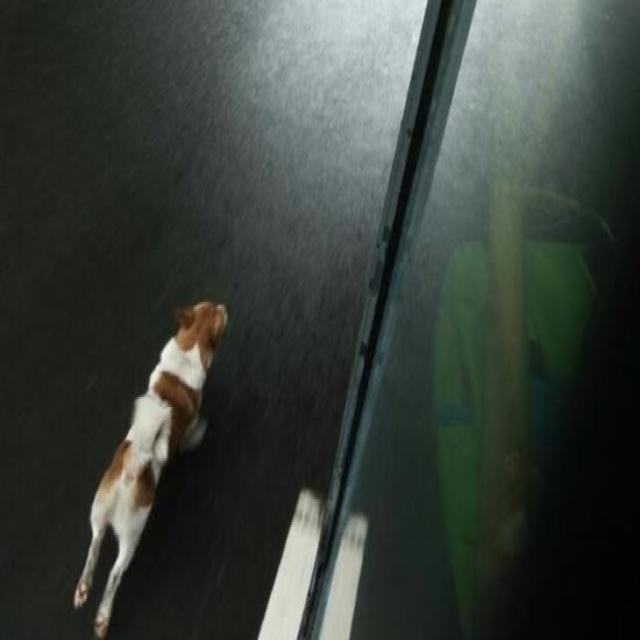dog: (70, 299, 252, 640)
